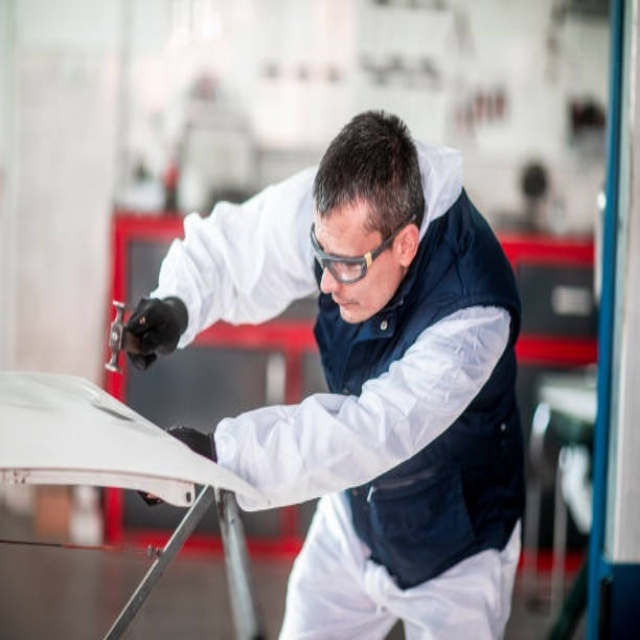Gafas: (308, 213, 414, 284)
Guantes: (143, 425, 217, 504), (121, 295, 189, 371)
Sin_mascara: (323, 290, 366, 323)
